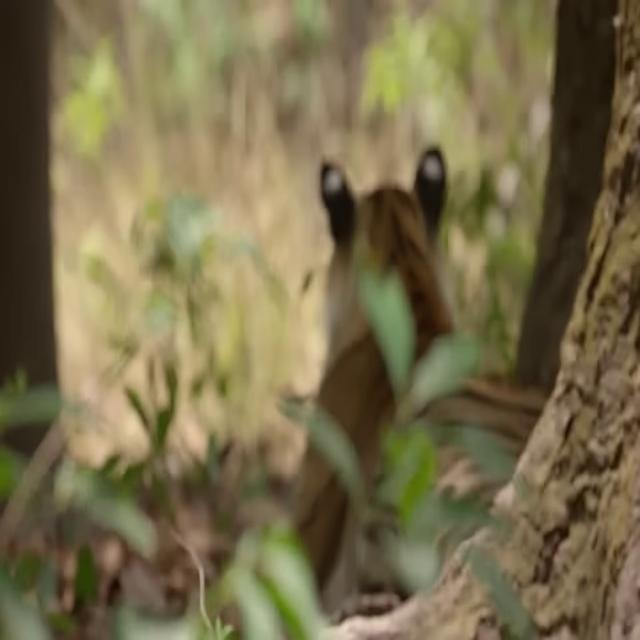tiger: (288, 141, 556, 619)
